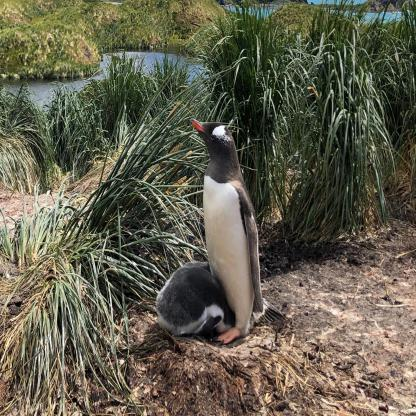Penguin: (174, 104, 289, 347), (143, 246, 236, 362)
